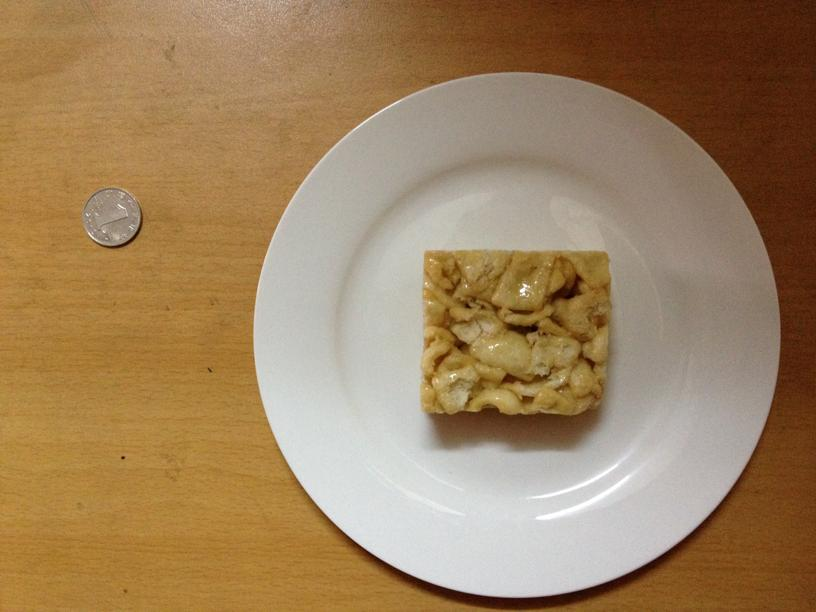coin: (83, 186, 142, 247)
sachima: (422, 245, 609, 419)
